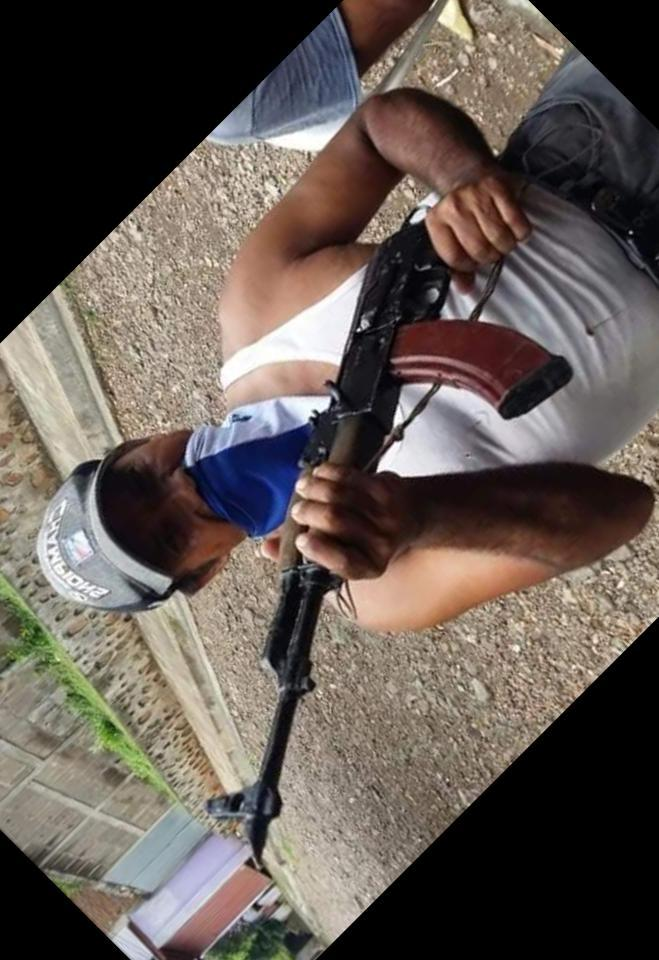larga: (201, 204, 575, 865)
